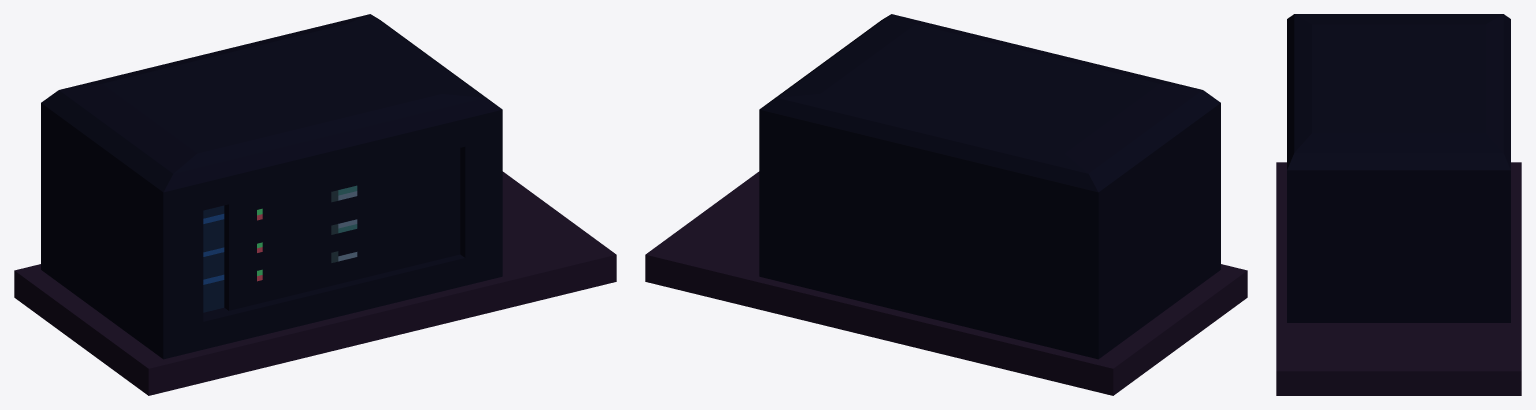
The model's file is RivenRoom_ServerShelf.fbx.
The picture shows the model from 3 angles, left to right: view 1: azimuth 30°, elevation 25°; view 2: azimuth 150°, elevation 25°; view 3: azimuth 270°, elevation 25°; orthographic projection. The views are drawn at different scales.
Parts seen in each view (by area): view 1: Cube.118; view 2: Cube.118; view 3: Cube.118.
Part boxes in pixels (<box>): Cube.118: <box>14,14,616,395</box>; Cube.118: <box>645,14,1247,395</box>; Cube.118: <box>1276,14,1521,395</box>.
Bounding box in the file's own units: 155 × 66.87 × 76.98.
